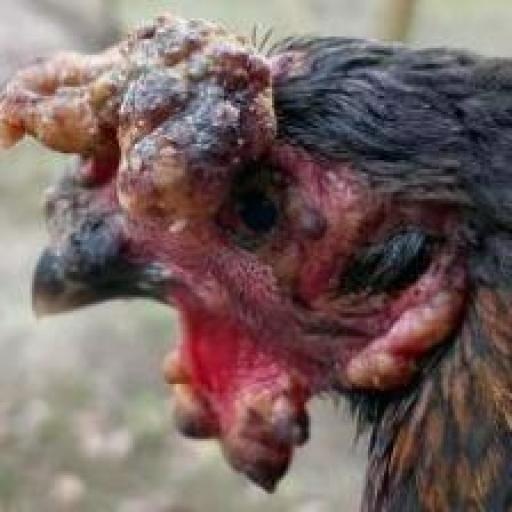disease: (0, 11, 280, 319)
